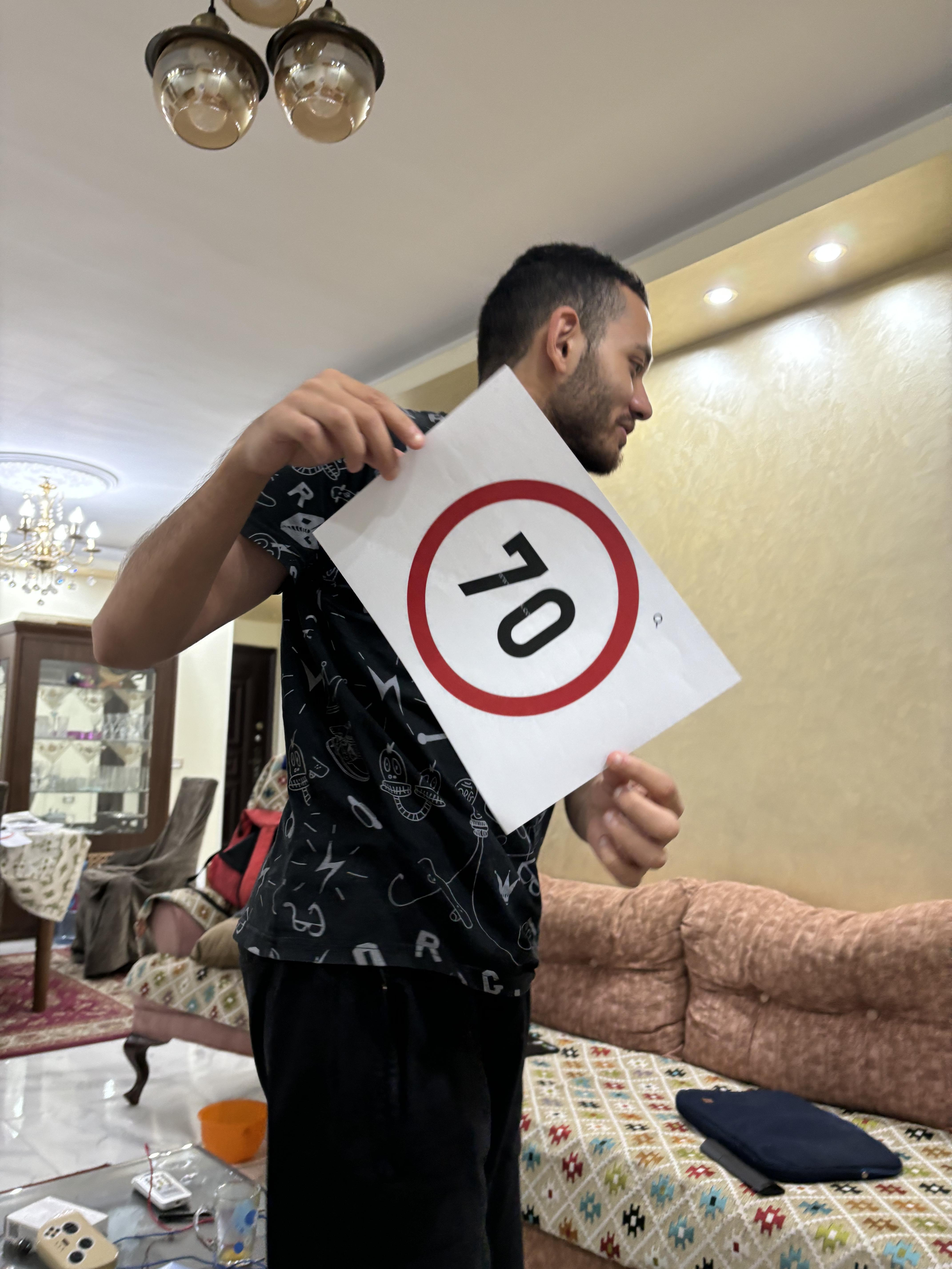70-Speed: (394, 465, 648, 717)
